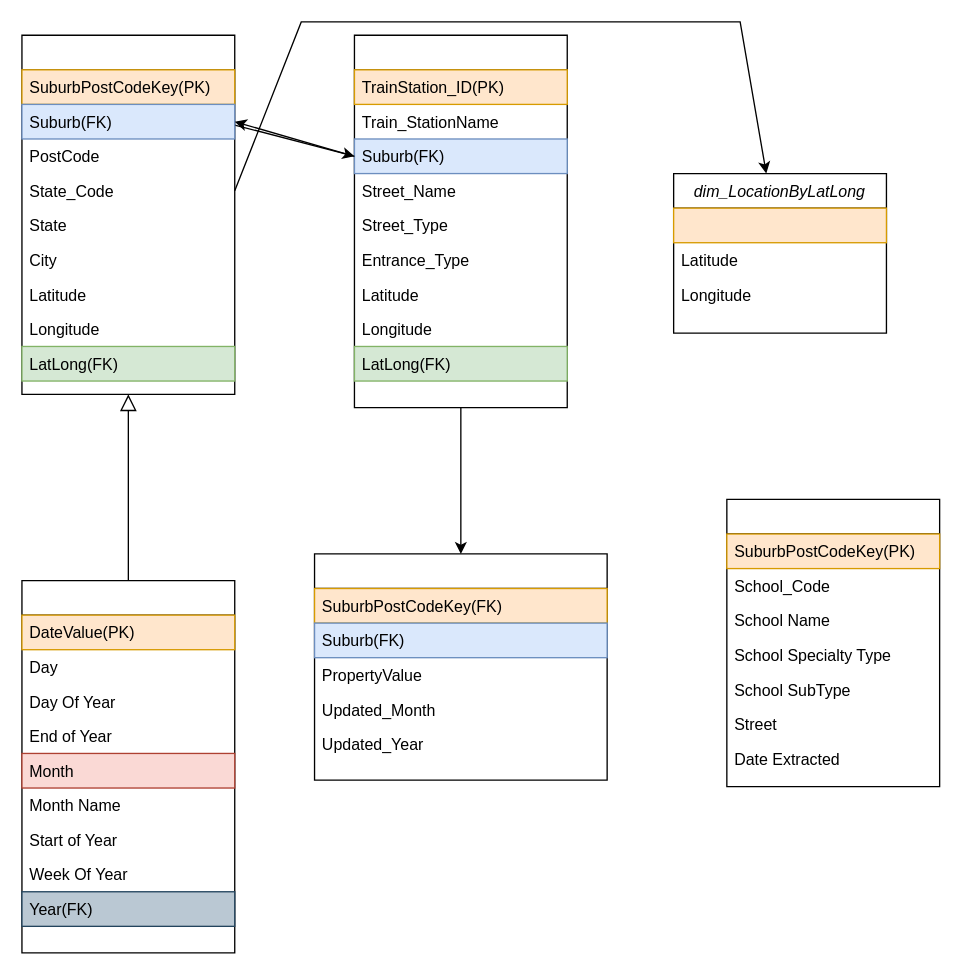
Some shapes in this 962 by 975 pixel diagram are drawn without their labels. Each missing label, with the box of its shape:
dim_Date: (21, 579, 235, 953)
dim_NSW_PublicSchool: (726, 498, 940, 787)
dim_NSW_TrainStation: (353, 34, 567, 408)
dim_Suburb_NSW: (21, 34, 235, 394)
Fact_NSW_PropertyMedianValue: (313, 553, 607, 780)
LatLong(PK): (672, 207, 886, 243)
